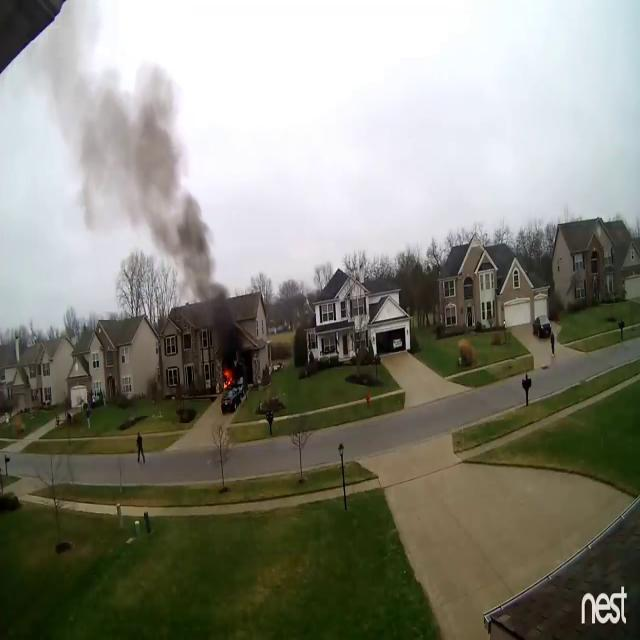Fire: (223, 368, 234, 390)
Smoke: (43, 14, 244, 366)
